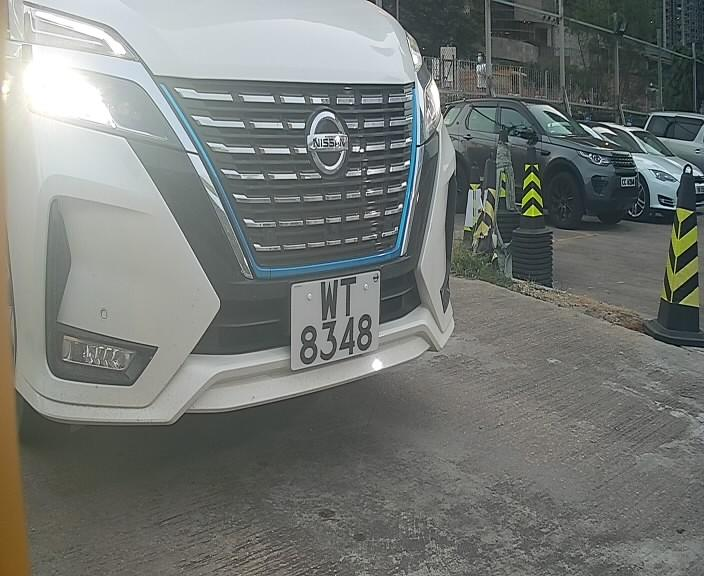License Plate: (283, 263, 390, 384)
